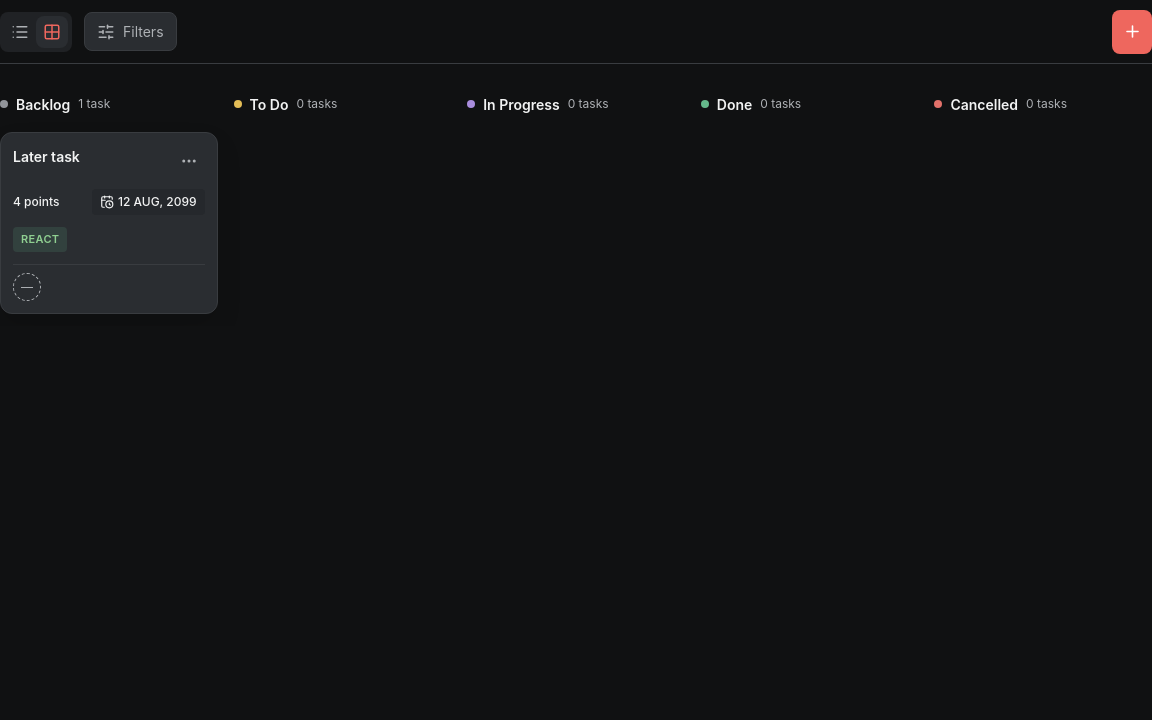
Test: DashboardPage assignee column › says so when nobody holds it, rather than leaving the cell blank
Expected: the element named "Task board" is shown, left=0, top=64, right=1151, bottom=326
Click the button named "Task view" at (20, 32), box left=4, top=16, right=36, bottom=48
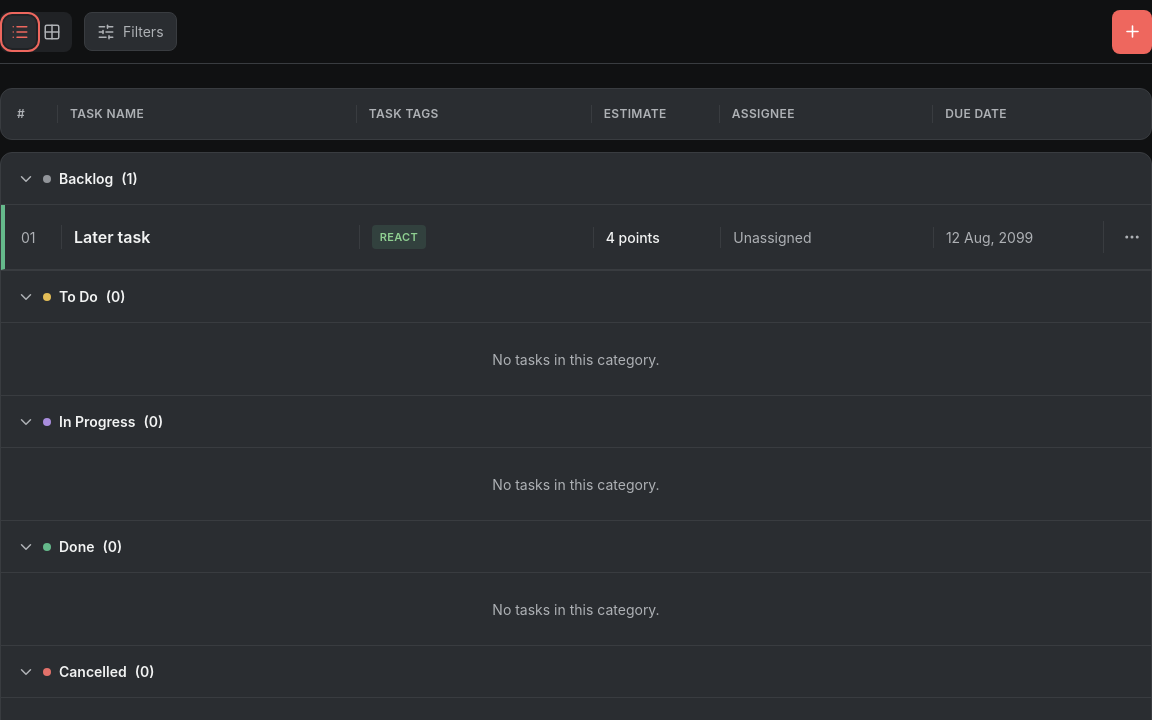
Expected: the text "Unassigned" is shown, left=720, top=226, right=933, bottom=248
